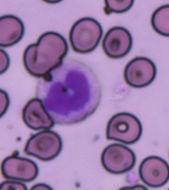N: (42, 58, 100, 124)
